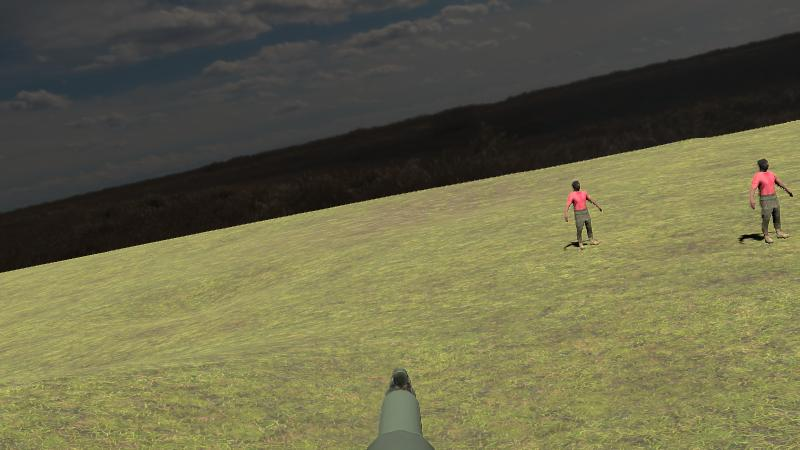Human: (750, 158, 794, 244), (565, 179, 603, 249)
